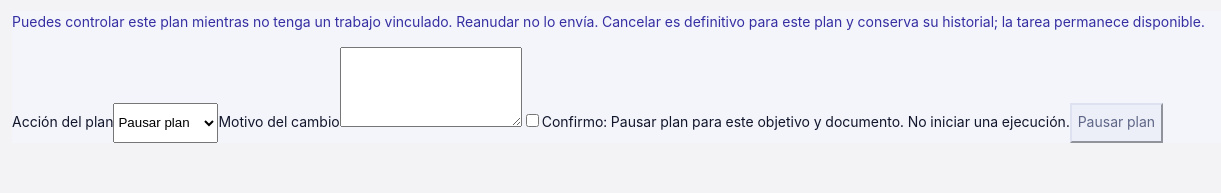
Test: does not retry an unconfirmed request or report success
Type "Necesitamos revisar el objetivo primero" into the text box labelled "Motivo del cambio" at (431, 87), box [340,47,522,127]
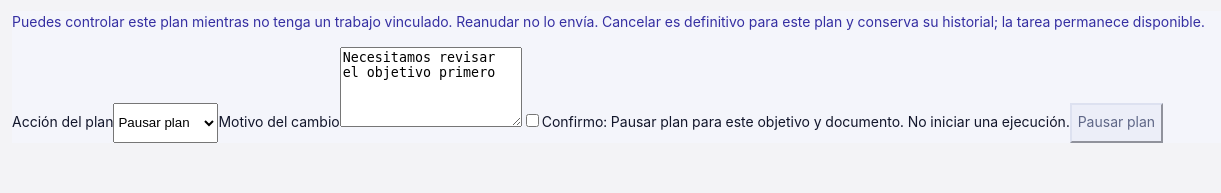
Click the checkbox at (532, 121), box [526,114,539,127]
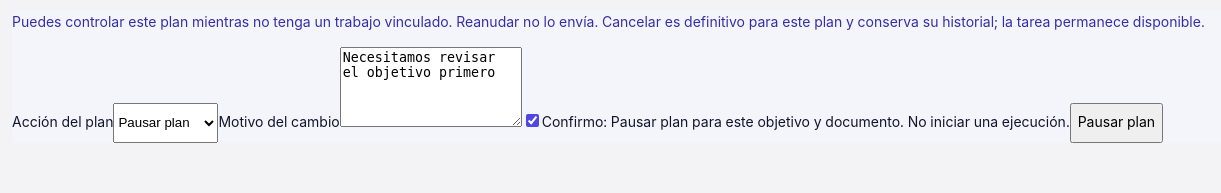
Click the button "Pausar plan" at (1116, 123), box [1070,103,1163,143]
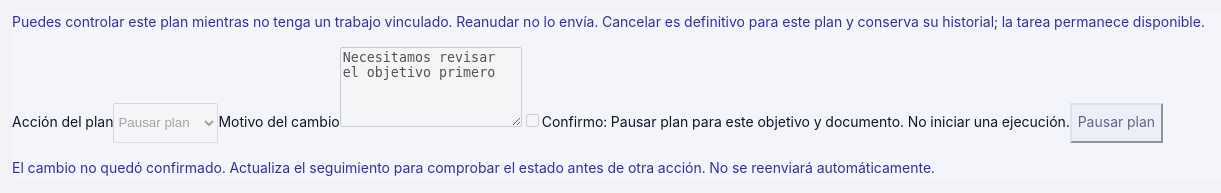
Expected: the message is shown, [12,159,935,176]
Expected: the button "Pausar plan" is disabled, [1070,103,1163,143]
